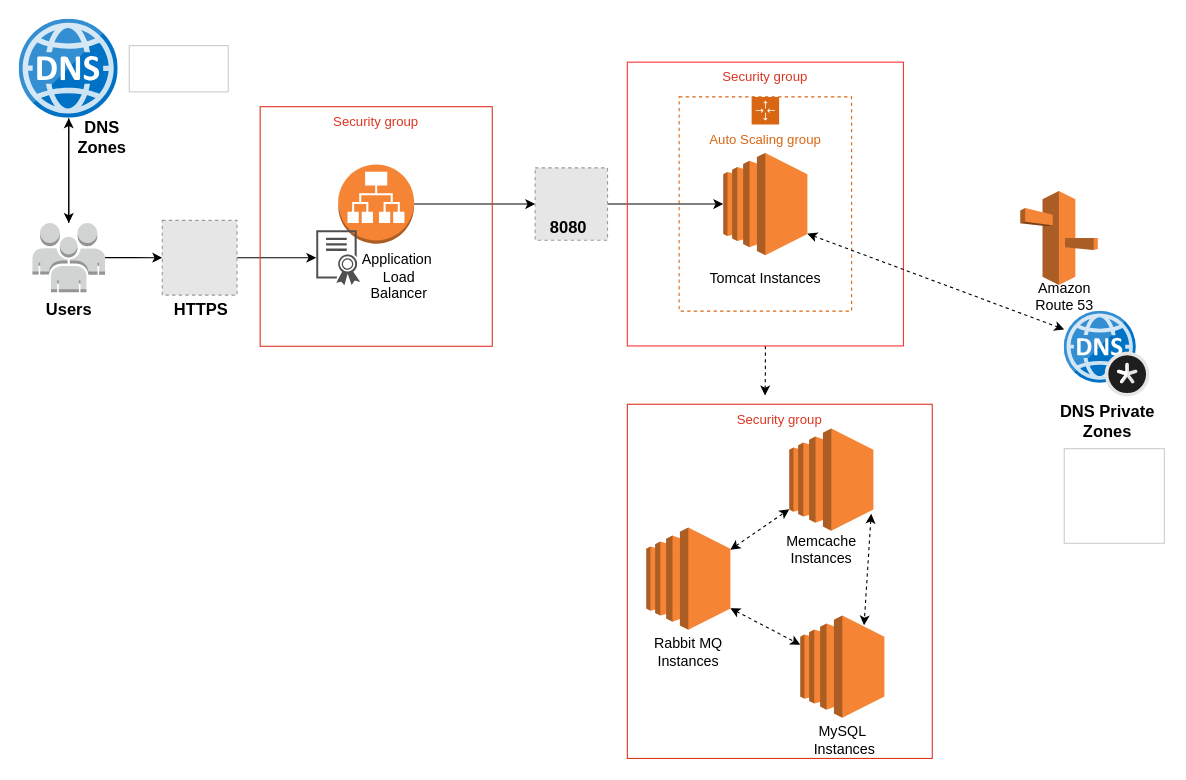
Image size: 1186x780. Some labels were removed from this diagram. Grey dashed boxes stand in for pictures. The shapes that lost their labels are listed below. From the top down, each one's centre as x and y in pixels, then its label:
At (178,68): "URL => ELB ENDPOINT".
At (1113,495): "db01 => IP mc01 => IP rmq01 => IP".
